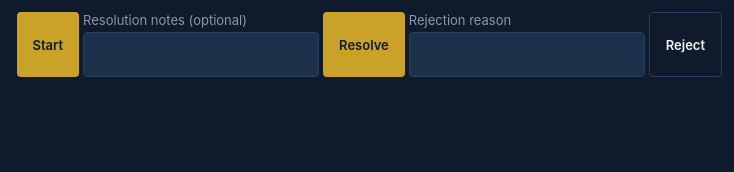
Test: SnagActions — ids and errors › falls back to a generic error message when an action fails without one
This screenshot has width=734, height=172.
Click the button "Start" at (48, 44), box x1=16 y1=12 x2=79 y2=77
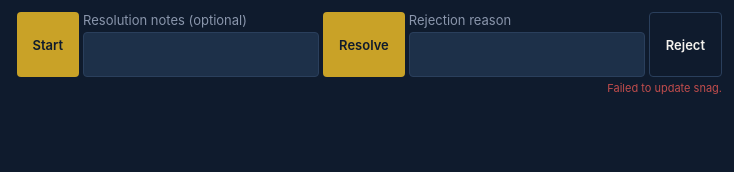
Expected: the text "Failed to update snag." is shown, x1=607 y1=81 x2=722 y2=95
